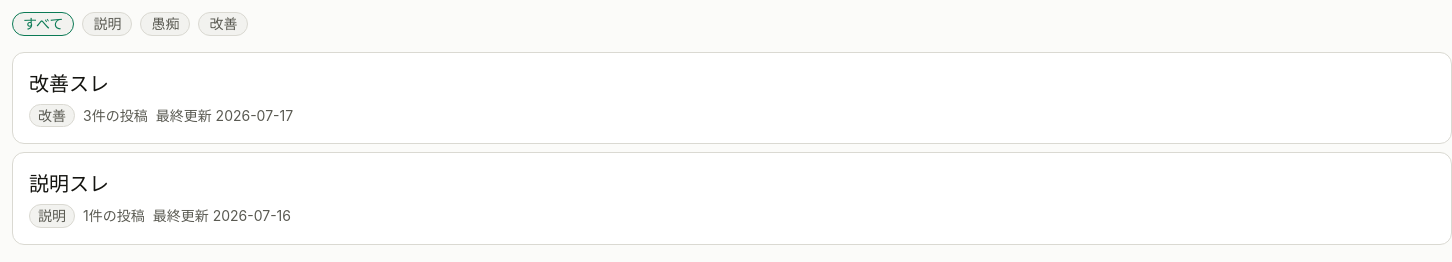
Test: BoardThreadsNode — c9 wave1 KNW Slice1 › shows an honest empty state when the active filter matches nothing
expect the text "改善スレ" is shown: met, box top-left (29, 72), bottom-right (109, 96)
Click the button "愚痴". click: (166, 24)
box: top-left (140, 12), bottom-right (190, 36)
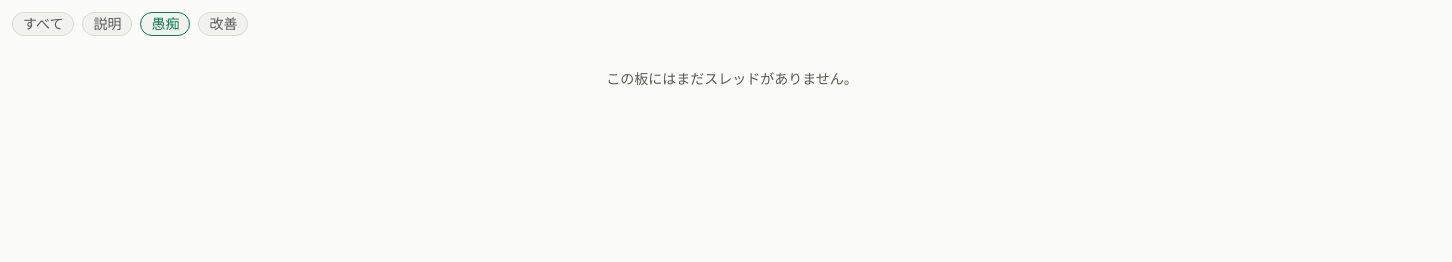
expect the text "この板にはまだスレッドがありません。" is shown: met, box top-left (606, 70), bottom-right (858, 87)
